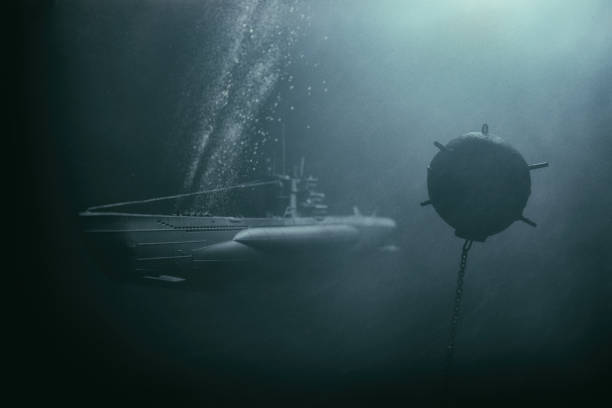Mines: (416, 122, 550, 245)
